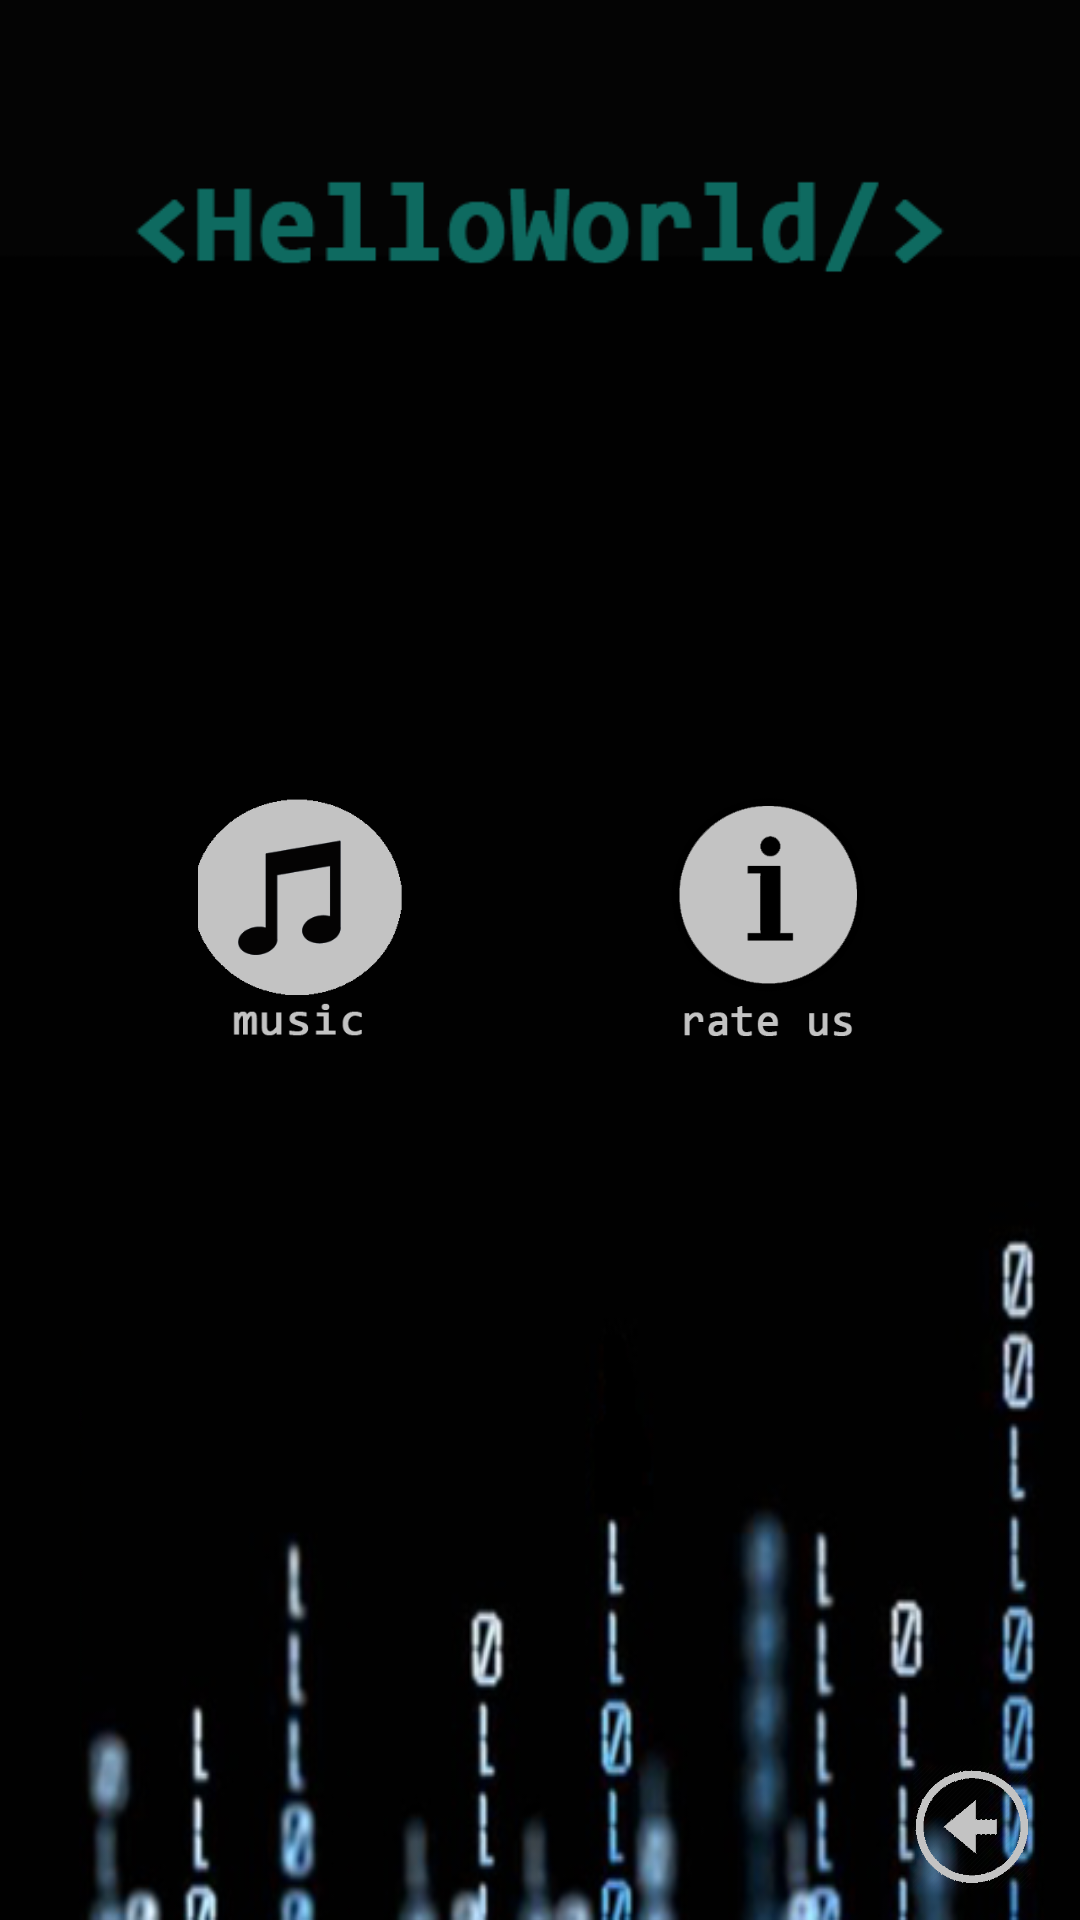

Named icons in this screenshot (1080w x 1920h) and their bounding boxes, (x1, y1, x2, y2):
back: (909, 1764, 1035, 1890)
